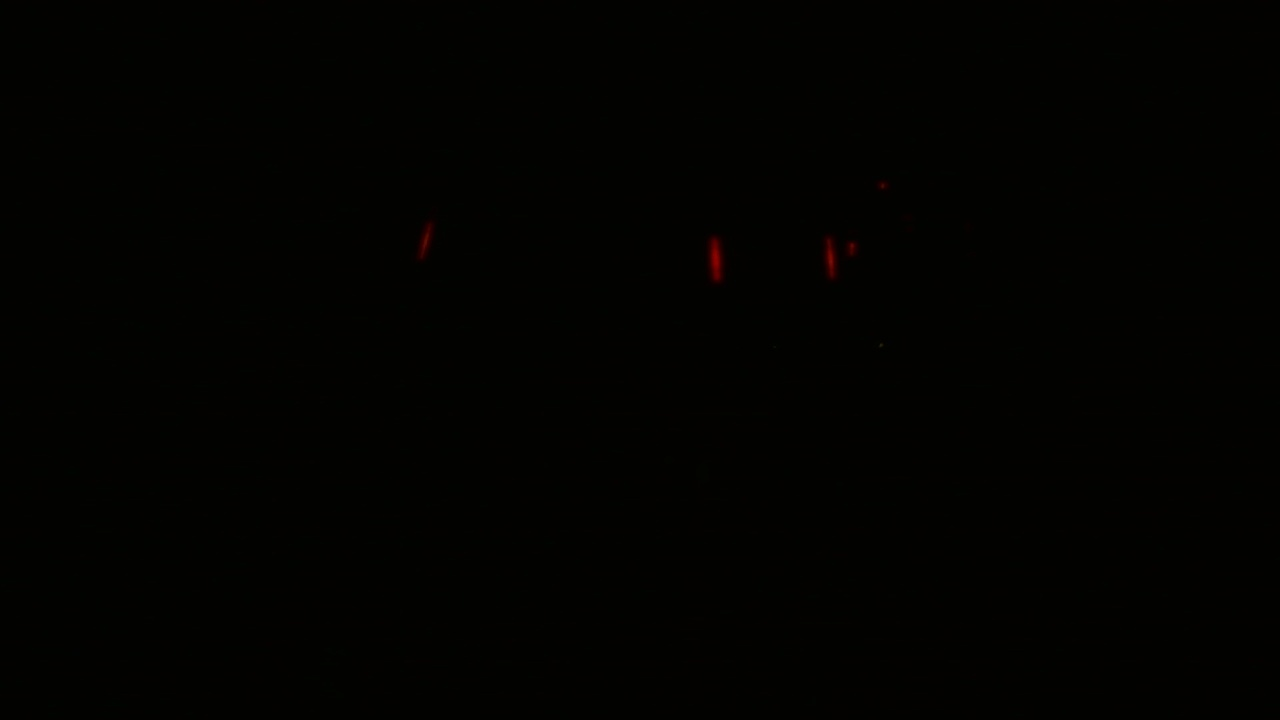pair1: (703, 228, 847, 291)
